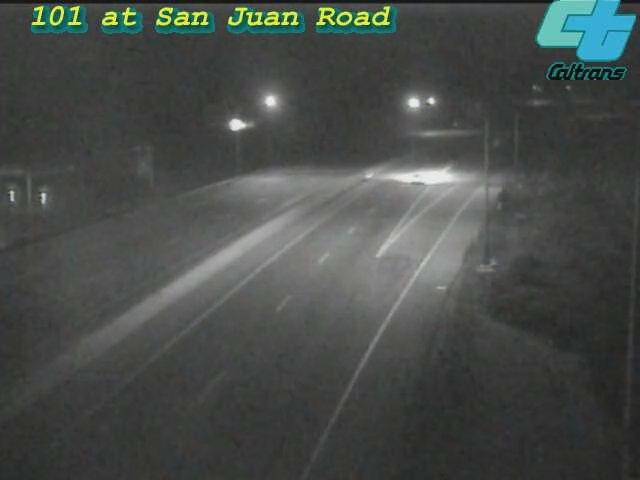vehicle: (376, 139, 456, 219)
